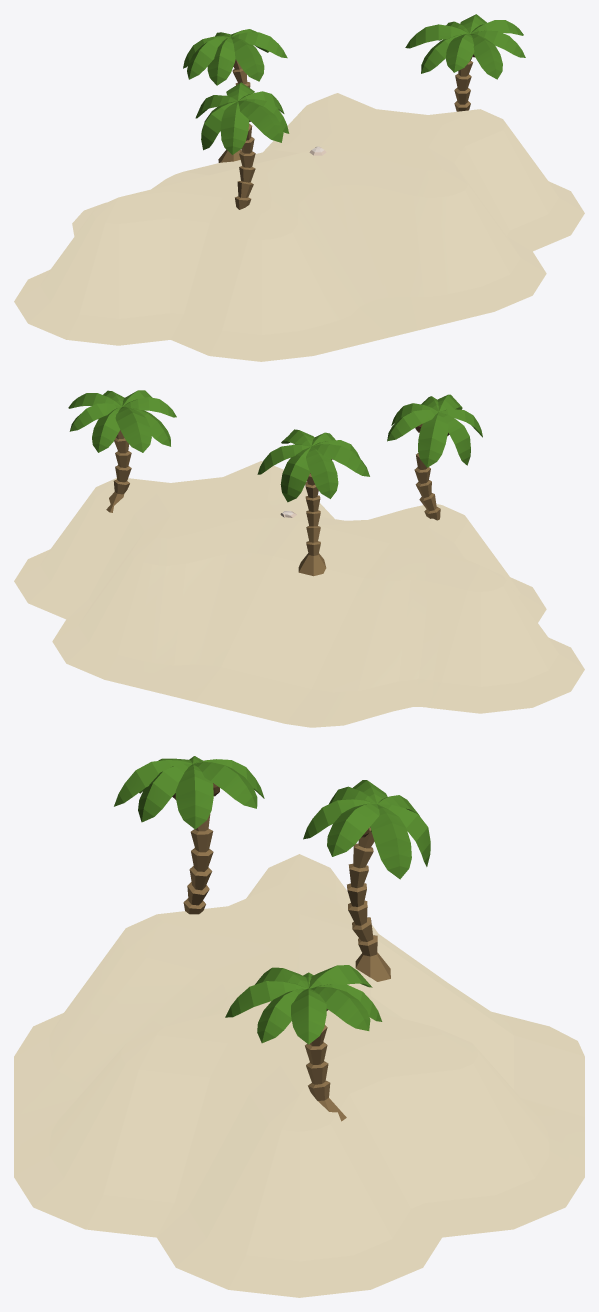
File: sand_island.obj
3 renders of one model, top to bottom at view 1: azimuth 30°, elevation 25°; view 2: azimuth 150°, elevation 25°; view 3: azimuth 270°, elevation 25°, orthographic. The views are drawn at different scales.
Visible parts, largest first — view 1: Sand_Side_Transition_From_Gentle_226, Sand_Side_Transition_From_Gentle_228, Sand_Corner_Inner_3x3_232, Sand_Corner_Outer_3x3_233, Sand_Corner_Outer_3x3_231, Sand_Corner_Inner_3x3_224, Sand_Corner_Outer_3x3_225, Sand_Corner_Outer_3x3_223, Prop_Tree_Palm_3_254, Prop_Tree_Palm_2_255, Prop_Tree_Palm_2_257, Sand_Side_Transition_From_Gentle_244 (+4 smaller); view 2: Sand_Side_Transition_From_Gentle_244, Sand_Side_Transition_To_Gentle_250, Sand_Side_249, Sand_Corner_Outer_3x3_234, Sand_Corner_Inner_3x3_241, Prop_Tree_Palm_2_257, Sand_Corner_Outer_3x3_242, Sand_Corner_Outer_3x3_222, Prop_Tree_Palm_3_254, Prop_Tree_Palm_2_255, Sand_Side_Transition_From_Gentle_226, Sand_Corner_Inner_3x3_232 (+4 smaller); view 3: Sand_Side_Transition_From_Gentle_228, Sand_Corner_Inner_3x3_224, Sand_Corner_Inner_3x3_241, Sand_Corner_Outer_3x3_222, Sand_Corner_Outer_3x3_223, Sand_Corner_Outer_3x3_225, Sand_Corner_Outer_3x3_242, Sand_Side_249, Prop_Tree_Palm_2_257, Prop_Tree_Palm_3_254, Prop_Tree_Palm_2_255, Sand_Side_Transition_From_Gentle_226 (+4 smaller).
Boxes of the visible parts, <box> form: Sand_Side_Transition_From_Gentle_226: <box>300,131,494,333</box>; Sand_Side_Transition_From_Gentle_228: <box>209,153,403,355</box>; Sand_Corner_Inner_3x3_232: <box>118,175,260,339</box>; Sand_Corner_Outer_3x3_233: <box>28,197,170,345</box>; Sand_Corner_Outer_3x3_231: <box>171,214,313,361</box>; Sand_Corner_Inner_3x3_224: <box>390,109,532,251</box>; Sand_Corner_Outer_3x3_225: <box>442,169,546,311</box>; Sand_Corner_Outer_3x3_223: <box>481,109,584,251</box>; Prop_Tree_Palm_3_254: <box>405,14,525,111</box>; Prop_Tree_Palm_2_255: <box>195,82,289,209</box>; Prop_Tree_Palm_2_257: <box>183,29,287,162</box>; Sand_Side_Transition_From_Gentle_244: <box>263,93,389,153</box>; Sand_Side_Transition_From_Gentle_244: <box>104,499,298,701</box>; Sand_Side_Transition_To_Gentle_250: <box>286,543,480,727</box>; Sand_Side_249: <box>195,521,389,723</box>; Sand_Corner_Outer_3x3_234: <box>428,565,570,713</box>; Sand_Corner_Inner_3x3_241: <box>66,479,208,619</box>; Prop_Tree_Palm_2_257: <box>257,429,369,576</box>; Sand_Corner_Outer_3x3_242: <box>52,537,156,679</box>; Sand_Corner_Outer_3x3_222: <box>14,478,116,619</box>; Prop_Tree_Palm_3_254: <box>68,390,176,512</box>; Prop_Tree_Palm_2_255: <box>387,394,482,520</box>; Sand_Side_Transition_From_Gentle_226: <box>209,461,334,521</box>; Sand_Corner_Inner_3x3_232: <box>390,505,487,568</box>; Sand_Side_Transition_From_Gentle_228: <box>14,914,299,1116</box>; Sand_Corner_Inner_3x3_224: <box>156,1035,299,1237</box>; Sand_Corner_Inner_3x3_241: <box>299,1035,442,1237</box>; Sand_Corner_Outer_3x3_222: <box>299,1095,441,1297</box>; Sand_Corner_Outer_3x3_223: <box>157,1096,299,1297</box>; Sand_Corner_Outer_3x3_225: <box>14,1035,156,1237</box>; Sand_Corner_Outer_3x3_242: <box>442,1035,584,1237</box>; Sand_Side_249: <box>299,914,584,1116</box>; Prop_Tree_Palm_2_257: <box>303,780,430,981</box>; Prop_Tree_Palm_3_254: <box>225,965,382,1121</box>; Prop_Tree_Palm_2_255: <box>114,756,264,914</box>; Sand_Side_Transition_From_Gentle_226: <box>14,991,296,1176</box>.
Size of the model in its own units: 18 by 6.82 by 12.
